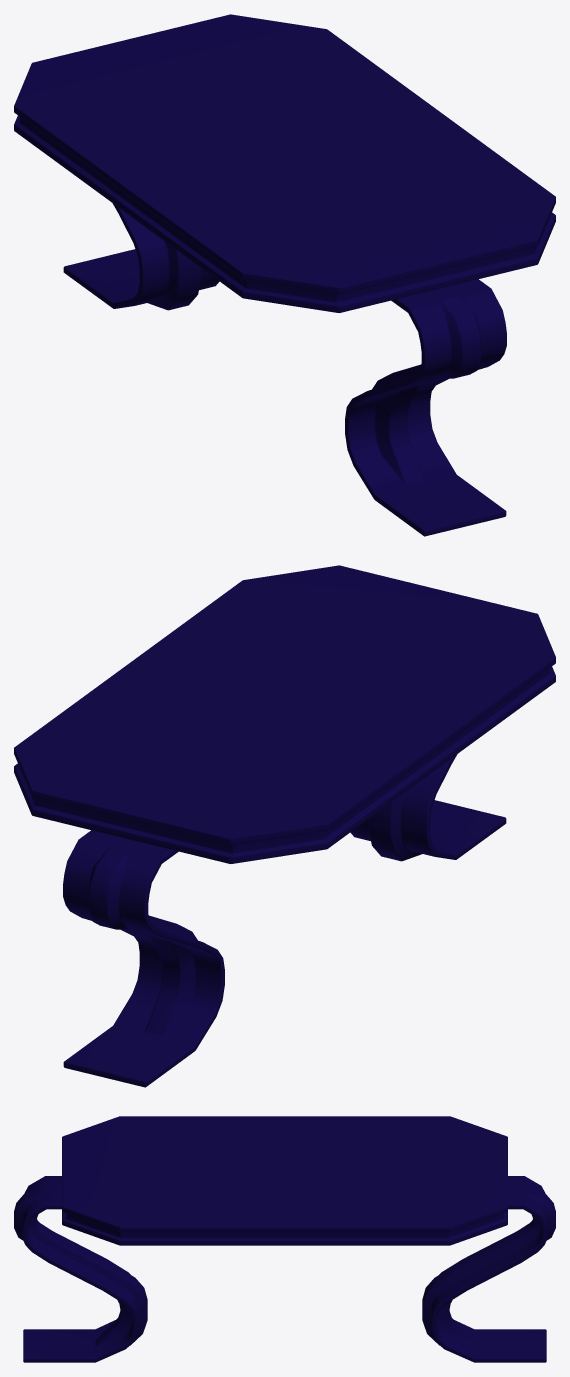
The model's file is Table02.fbx.
The picture shows the model from 3 angles, top to bottom: view 1: azimuth 30°, elevation 25°; view 2: azimuth 150°, elevation 25°; view 3: azimuth 270°, elevation 25°; orthographic projection. The views are drawn at different scales.
Parts seen in each view (by area): view 1: SM_Table02; view 2: SM_Table02; view 3: SM_Table02.
Boxes of the visible parts, x1,y1,x2,y2 form: SM_Table02: (14,14,555,536); SM_Table02: (14,565,555,1087); SM_Table02: (14,1116,555,1362).
Bounding box in the file's own units: 1.2 × 0.8924 × 2.48.
